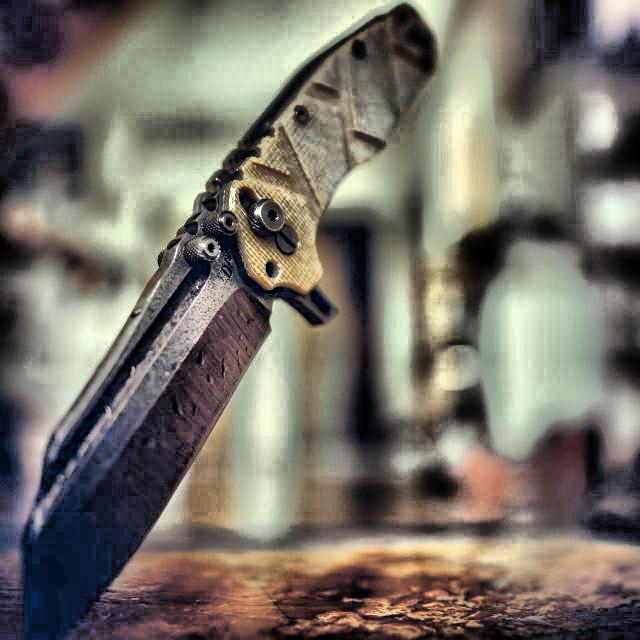knife: (19, 4, 442, 640)
